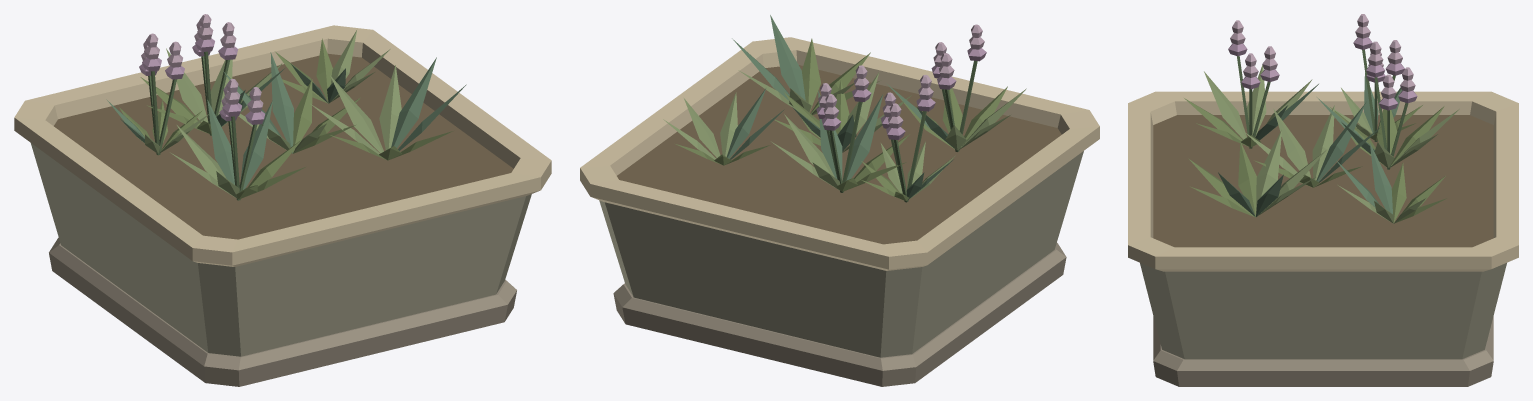
Rendered from planter.glb.
3 views of the same model, side by side, from view 1: azimuth 30°, elevation 25°; view 2: azimuth 150°, elevation 25°; view 3: azimuth 270°, elevation 25° (orthographic). The views are drawn at different scales.
Visible parts, largest first — view 1: Carved_stone_herb_trough; view 2: Carved_stone_herb_trough; view 3: Carved_stone_herb_trough.
Boxes of the visible parts, x1,y1,x2,y2 form: Carved_stone_herb_trough: (14, 14, 551, 386); Carved_stone_herb_trough: (580, 15, 1099, 386); Carved_stone_herb_trough: (1128, 14, 1518, 386).
Bounding box in the file's own units: 1.56 × 1.11 × 1.56.
